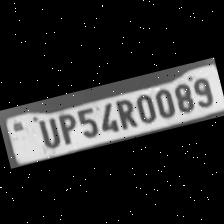0: (130, 88, 157, 124), (150, 84, 176, 120)
4: (93, 98, 118, 134)
5: (72, 102, 99, 139)
8: (169, 77, 195, 114)
9: (188, 71, 216, 108)
P: (53, 109, 79, 145)
R: (110, 93, 138, 131)
U: (32, 112, 61, 149)
